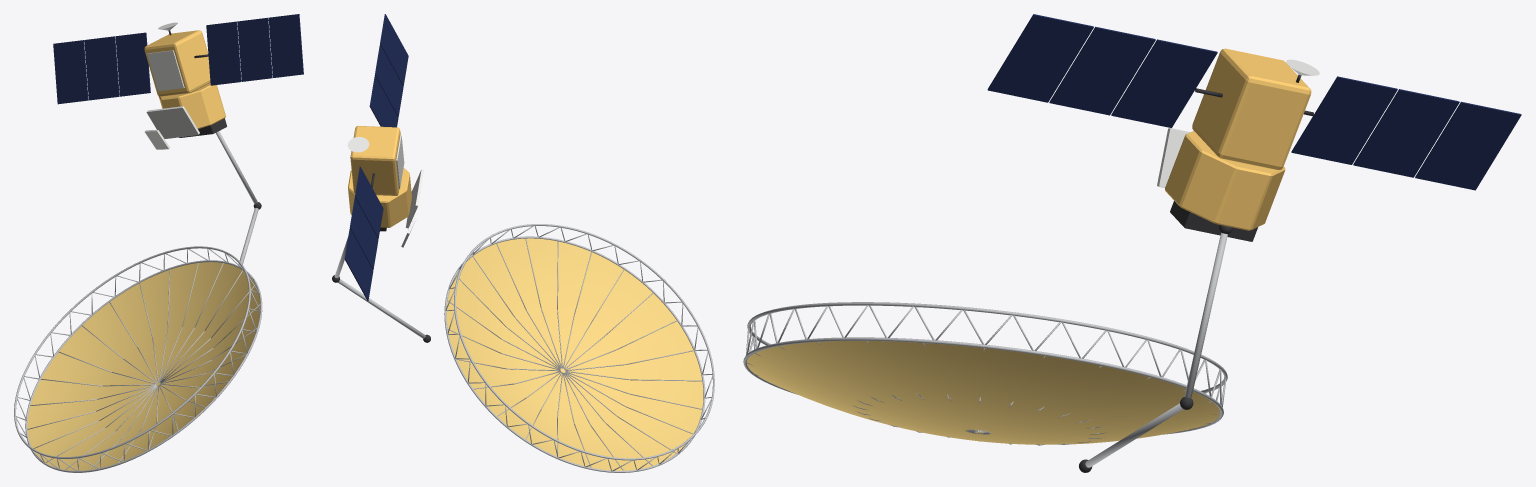
The model's file is nisar.glb.
The picture shows the model from 3 angles, left to right: view 1: azimuth 30°, elevation 25°; view 2: azimuth 150°, elevation 25°; view 3: azimuth 270°, elevation 25°; orthographic projection. The views are drawn at different scales.
Visible parts, largest first — view 1: Reflector, Bus, Panel_-1_0, Panel_1_1, Panel_1_2, Panel_-1_1, Panel_-1_2, Panel_1_0, Aro_trasero, Aro_frontal, Instrumento, Alimentador_L (+3 smaller); view 2: Reflector, Bus, Aro_trasero, Aro_frontal, Instrumento, Panel_1_2, Panel_1_0, Panel_-1_2, Panel_1_1, Panel_-1_1, Panel_-1_0, Brazo_2 (+1 smaller); view 3: Reflector, Bus, Instrumento, Panel_1_0, Panel_-1_1, Panel_1_1, Panel_1_2, Panel_-1_2, Panel_-1_0, Aro_frontal, Aro_trasero, Brazo_1 (+3 smaller).
Boxes of the visible parts, box(x1,y1,x2,y2) form: Reflector: box(27, 262, 260, 470); Bus: box(144, 30, 210, 96); Panel_-1_0: box(206, 21, 241, 85); Panel_1_1: box(84, 36, 119, 100); Panel_1_2: box(53, 40, 88, 104); Panel_-1_1: box(237, 17, 272, 81); Panel_-1_2: box(268, 14, 303, 77); Panel_1_0: box(115, 32, 150, 96); Aro_trasero: box(14, 246, 250, 458); Aro_frontal: box(25, 260, 262, 472); Instrumento: box(158, 82, 225, 128); Alimentador_L: box(146, 106, 199, 138); Reflector: box(446, 238, 703, 470); Bus: box(350, 126, 400, 195); Aro_trasero: box(454, 224, 714, 460); Aro_frontal: box(444, 236, 705, 472); Instrumento: box(348, 168, 411, 227); Panel_1_2: box(344, 229, 373, 300); Panel_1_0: box(355, 166, 383, 238); Panel_-1_2: box(380, 14, 408, 86); Panel_1_1: box(349, 197, 378, 269); Panel_-1_1: box(374, 45, 403, 117); Panel_-1_0: box(369, 76, 398, 127); Brazo_2: box(338, 279, 425, 338); Reflector: box(747, 341, 1220, 444); Bus: box(1192, 48, 1311, 169); Instrumento: box(1165, 131, 1285, 230); Panel_1_0: box(1291, 76, 1397, 164); Panel_-1_1: box(1049, 26, 1155, 115); Panel_1_1: box(1353, 89, 1459, 177); Panel_1_2: box(1415, 101, 1521, 190); Panel_-1_2: box(987, 14, 1093, 102); Panel_-1_0: box(1111, 39, 1217, 127); Aro_frontal: box(743, 337, 1223, 434); Aro_trasero: box(747, 302, 1227, 392); Brazo_1: box(1184, 232, 1227, 398).
Size of the model in its own units: 14.22 by 17.71 by 19.47.
